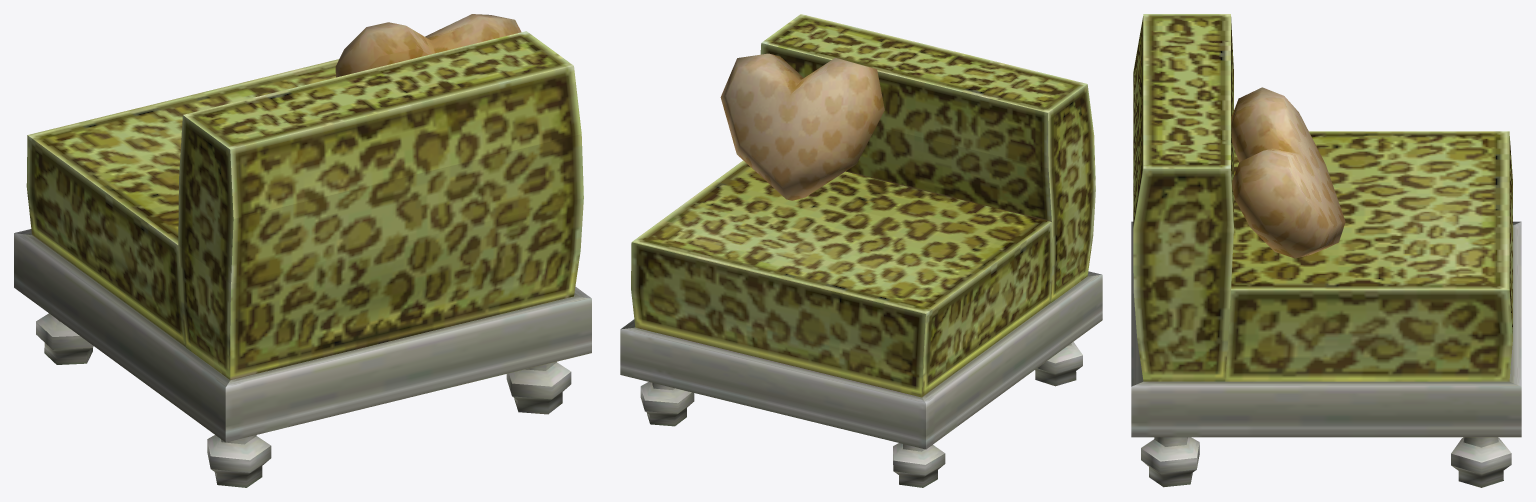
The model's file is furni_0200096_01.FBX.
The picture shows the model from 3 angles, left to right: view 1: azimuth 30°, elevation 25°; view 2: azimuth 150°, elevation 25°; view 3: azimuth 270°, elevation 25°; orthographic projection. The views are drawn at different scales.
Parts seen in each view (by area): view 1: furni_0200096_01; view 2: furni_0200096_01; view 3: furni_0200096_01.
Part boxes in pixels (box(x1,y1,x2,y2)): furni_0200096_01: box(14, 14, 591, 487); furni_0200096_01: box(620, 14, 1102, 487); furni_0200096_01: box(1131, 14, 1521, 487).
Size of the model in its own units: 81.16 by 76.1 by 80.
